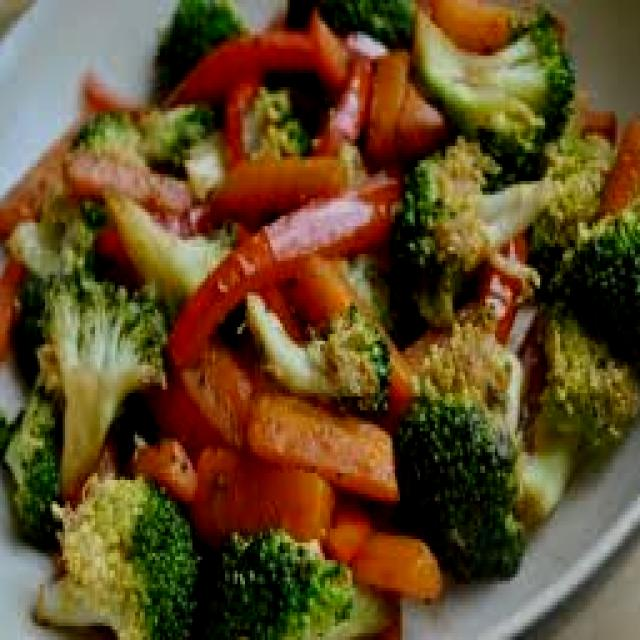wortel: (158, 332, 428, 585), (187, 15, 442, 153), (212, 131, 407, 264), (6, 96, 79, 245)
